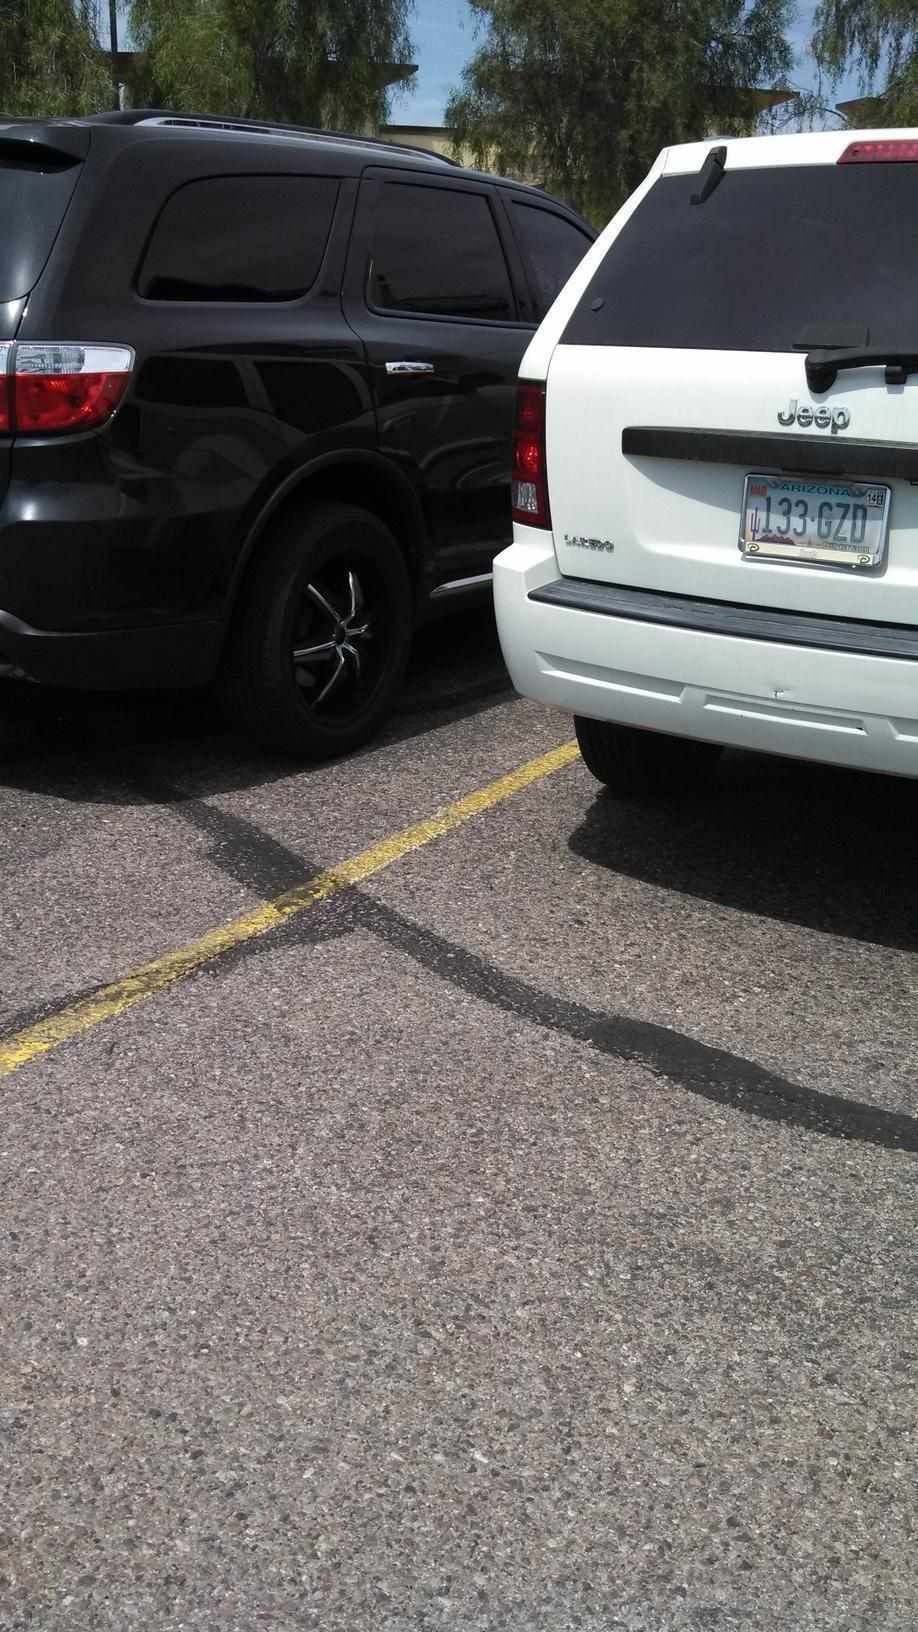placa de veiculo: (725, 463, 895, 572)
